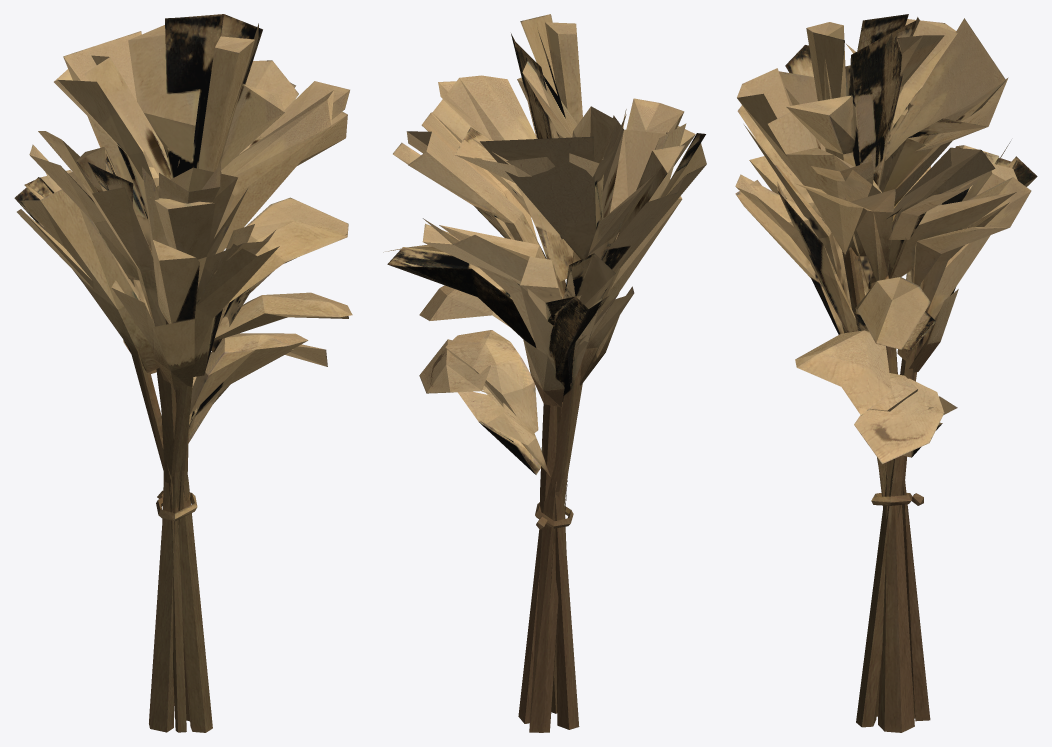
Rendered from grain.glb.
3 views of the same model, side by side, from view 1: azimuth 30°, elevation 25°; view 2: azimuth 150°, elevation 25°; view 3: azimuth 270°, elevation 25° (orthographic). The views are drawn at different scales.
Size of the model in its own units: 0.2789 by 0.6 by 0.2309.
1 material, 1 textured.
